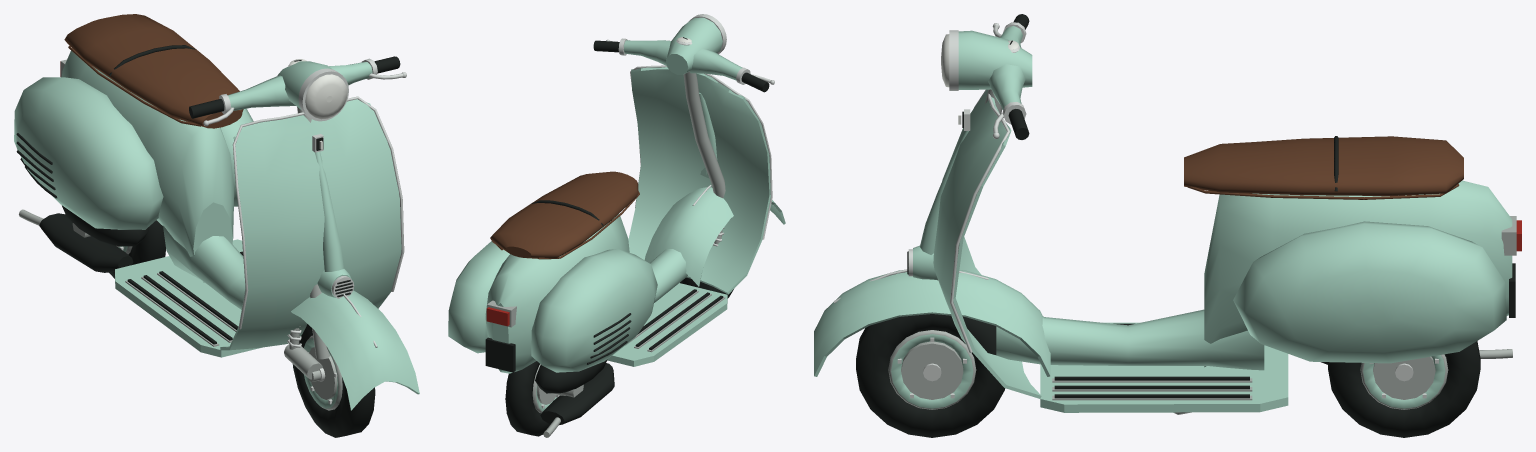
Rendered from Scooter.glb.
The picture shows the model from 3 angles, left to right: view 1: azimuth 30°, elevation 25°; view 2: azimuth 150°, elevation 25°; view 3: azimuth 270°, elevation 25°; orthographic projection. The views are drawn at different scales.
Visible parts, largest first — view 1: Scooter, Fork, Wheel.F, Wheel.R; view 2: Scooter, Fork, Wheel.R; view 3: Scooter, Fork, Wheel.F, Wheel.R.
Part boxes in pixels (bbox=[...]): Scooter: bbox=[14, 14, 404, 357]; Fork: bbox=[189, 56, 419, 410]; Wheel.F: bbox=[292, 324, 375, 437]; Wheel.R: bbox=[109, 220, 165, 278]; Scooter: bbox=[448, 65, 772, 437]; Fork: bbox=[593, 14, 785, 286]; Wheel.R: bbox=[505, 361, 559, 436]; Scooter: bbox=[907, 89, 1521, 414]; Fork: bbox=[814, 14, 1050, 376]; Wheel.F: bbox=[856, 314, 1005, 437]; Wheel.R: bbox=[1328, 341, 1480, 437].
Size of the model in its own units: 0.6773 by 1.1 by 1.77.
